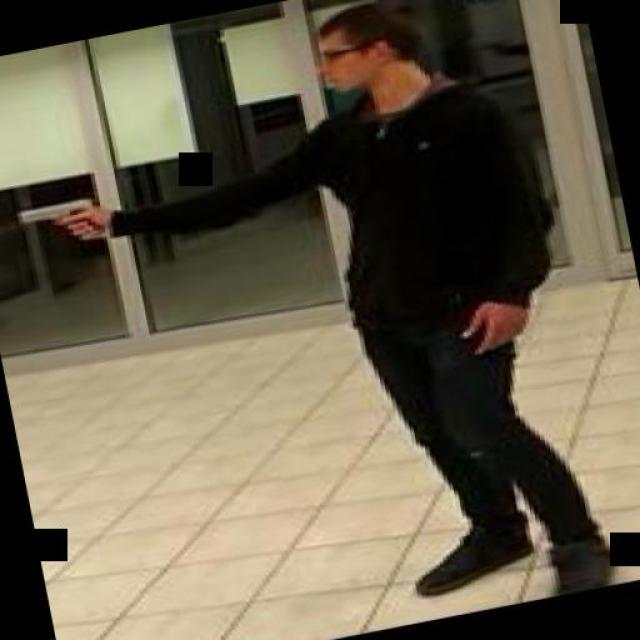gun: (5, 191, 103, 254)
